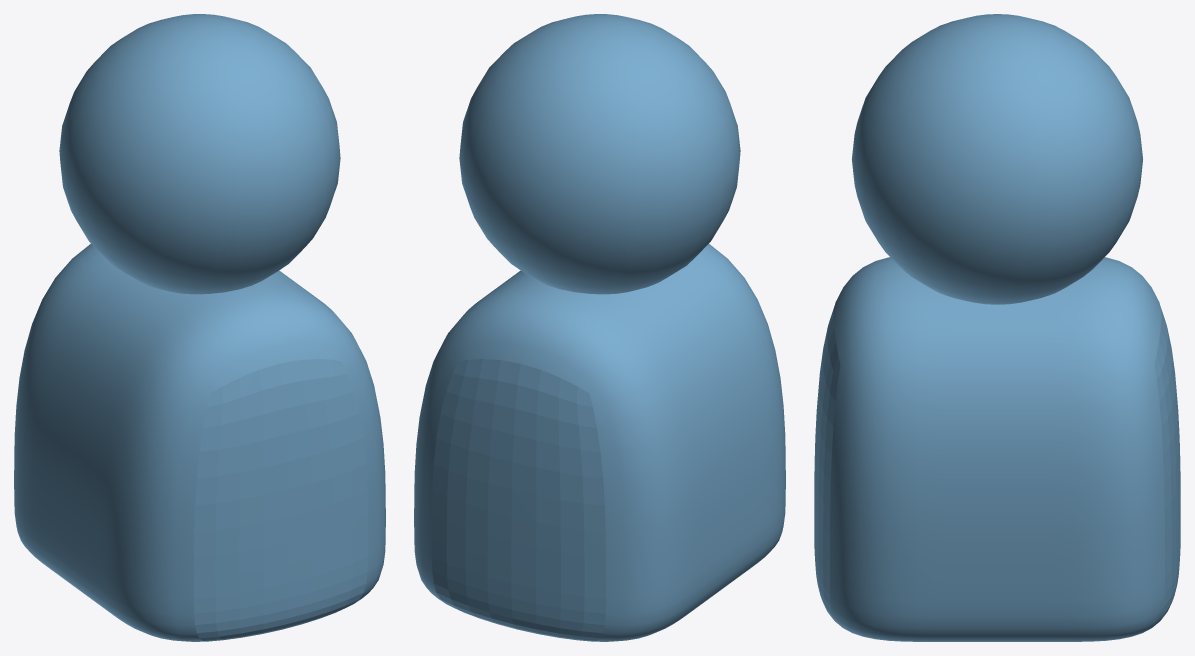
Rendered from user.glb.
3 views of the same model, side by side, from view 1: azimuth 30°, elevation 25°; view 2: azimuth 150°, elevation 25°; view 3: azimuth 270°, elevation 25° (orthographic). The views are drawn at different scales.
Parts seen in each view (by area): view 1: Cube, Sphere.001; view 2: Cube, Sphere.001; view 3: Cube, Sphere.001.
Part boxes in pixels (bbox=[...]): Cube: bbox=[14, 244, 385, 641]; Sphere.001: bbox=[59, 14, 340, 294]; Cube: bbox=[414, 244, 785, 641]; Sphere.001: bbox=[459, 14, 740, 294]; Cube: bbox=[814, 257, 1180, 641]; Sphere.001: bbox=[852, 14, 1142, 304].
Bounding box in the file's own units: 0.0827 × 0.1665 × 0.0972.
